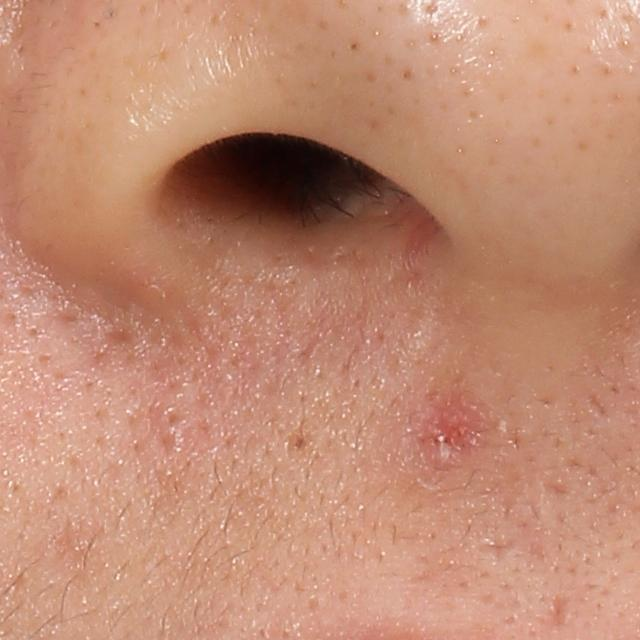atrophic_scar: (476, 532, 518, 567), (545, 588, 576, 635), (585, 388, 609, 420)
